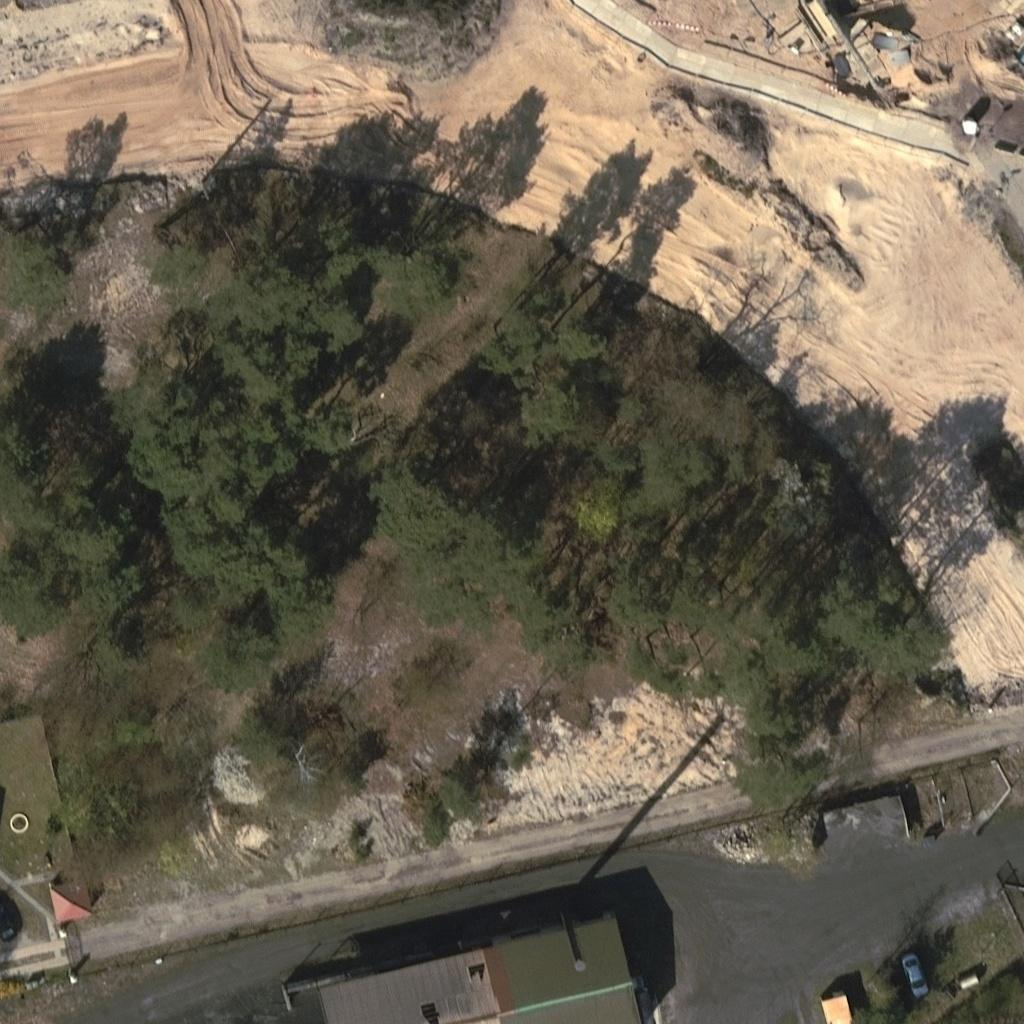samochod_osobowy: (895, 951, 932, 1001)
